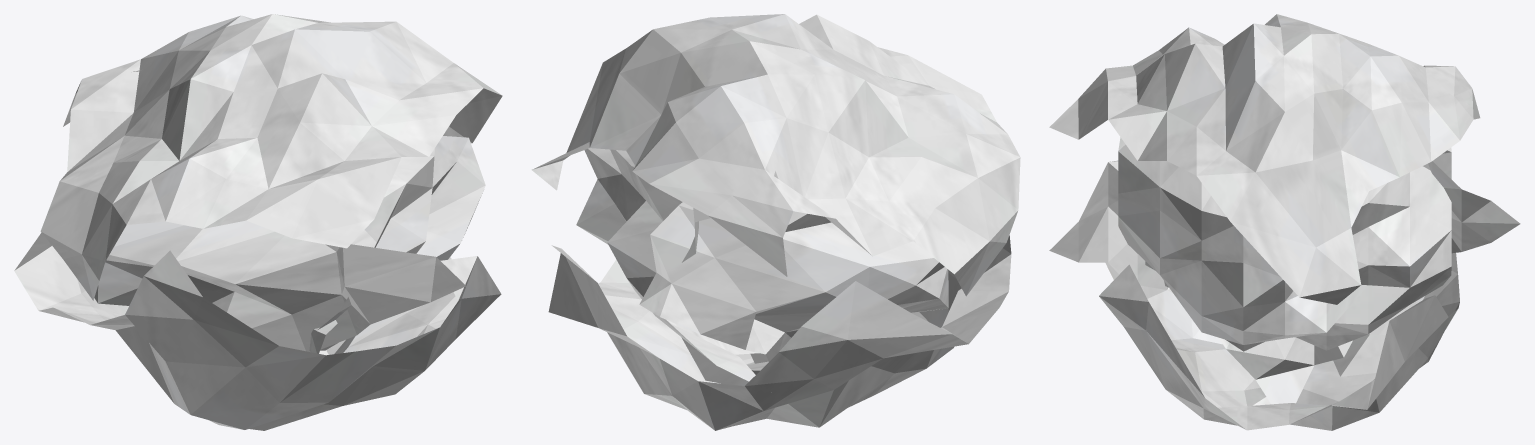
Rendered from CrumpledPaperBall.fbx.
The picture shows the model from 3 angles, left to right: view 1: azimuth 30°, elevation 25°; view 2: azimuth 150°, elevation 25°; view 3: azimuth 270°, elevation 25°; orthographic projection.
Visible parts, largest first — view 1: Plane; view 2: Plane; view 3: Plane.
Boxes of the visible parts, x1=… form: Plane: x1=14, y1=14, x2=502, y2=430; Plane: x1=532, y1=14, x2=1020, y2=430; Plane: x1=1049, y1=14, x2=1520, y2=430.
Size of the model in its own units: 587 by 517 by 563.
